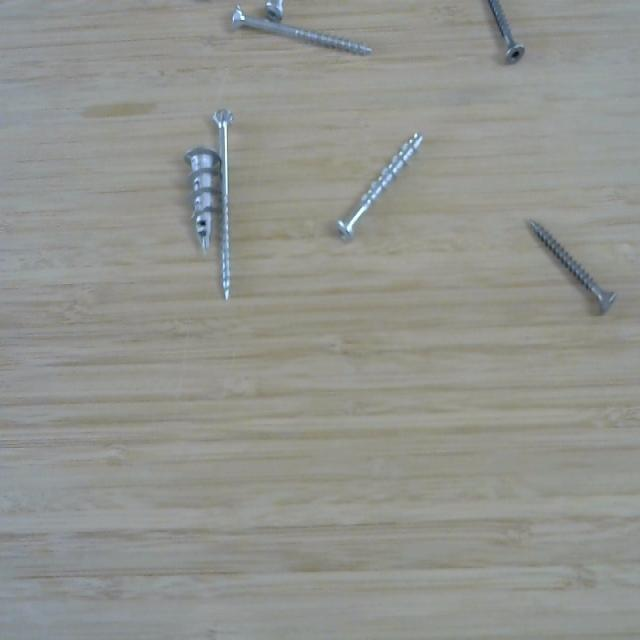Black screw: (521, 202, 617, 331), (482, 0, 534, 83)
Long screw: (227, 5, 377, 70), (213, 105, 241, 311)
Medium screw: (326, 119, 431, 257), (262, 0, 285, 24)
Short screw: (181, 141, 222, 263)
